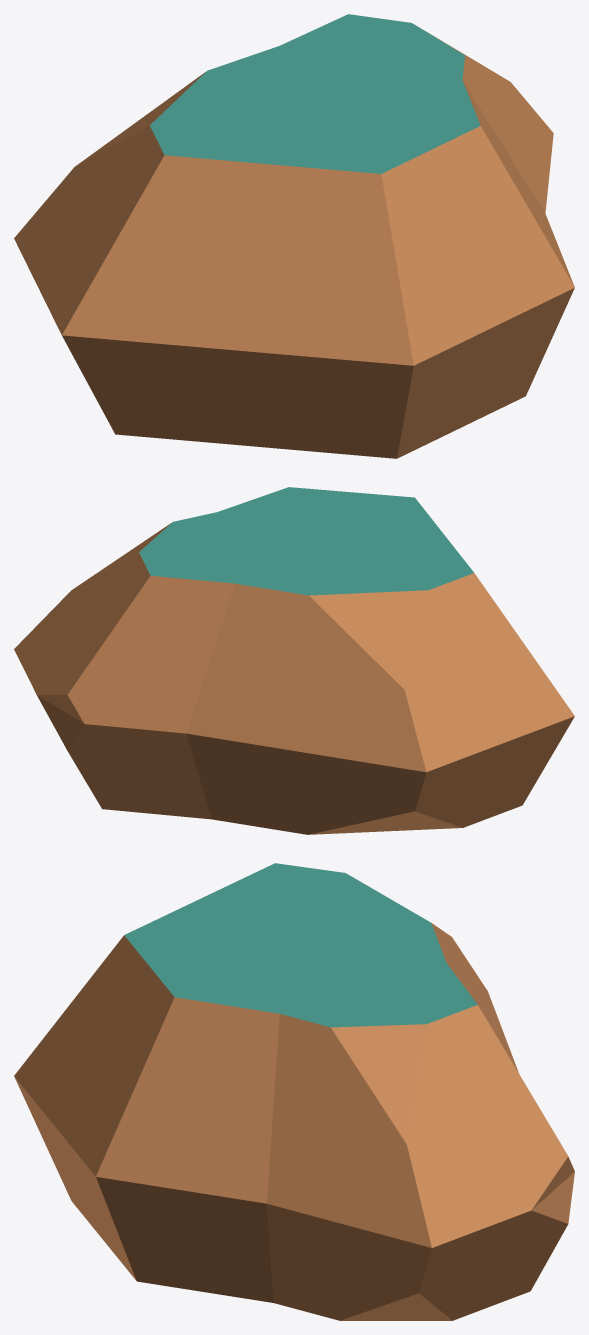
File: rock_large6.obj
3 renders of one model, top to bottom at view 1: azimuth 30°, elevation 25°; view 2: azimuth 150°, elevation 25°; view 3: azimuth 270°, elevation 25°, orthographic. The views are drawn at different scales.
Visible parts, largest first — view 1: rock_large6; view 2: rock_large6; view 3: rock_large6.
Part boxes in pixels (left/top/right/bottom): rock_large6: left=14, top=14, right=574, bottom=458; rock_large6: left=14, top=487, right=574, bottom=834; rock_large6: left=14, top=863, right=574, bottom=1320.
Size of the model in its own units: 10.95 by 4.79 by 8.99.
